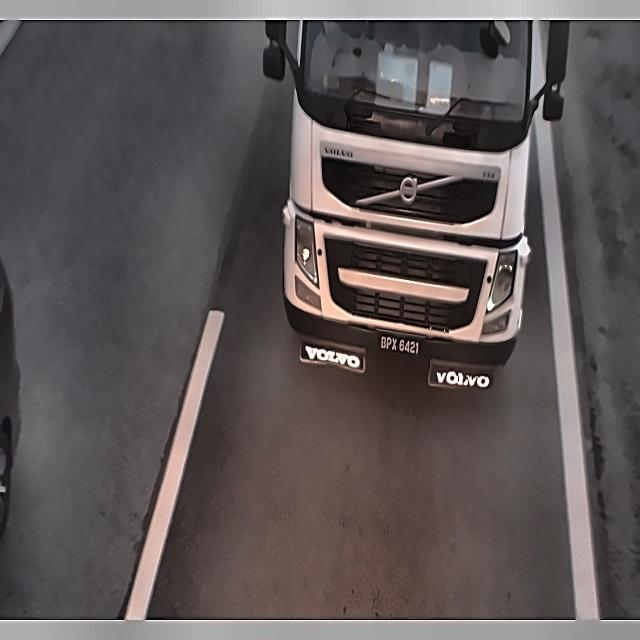car: (367, 326, 430, 362)
